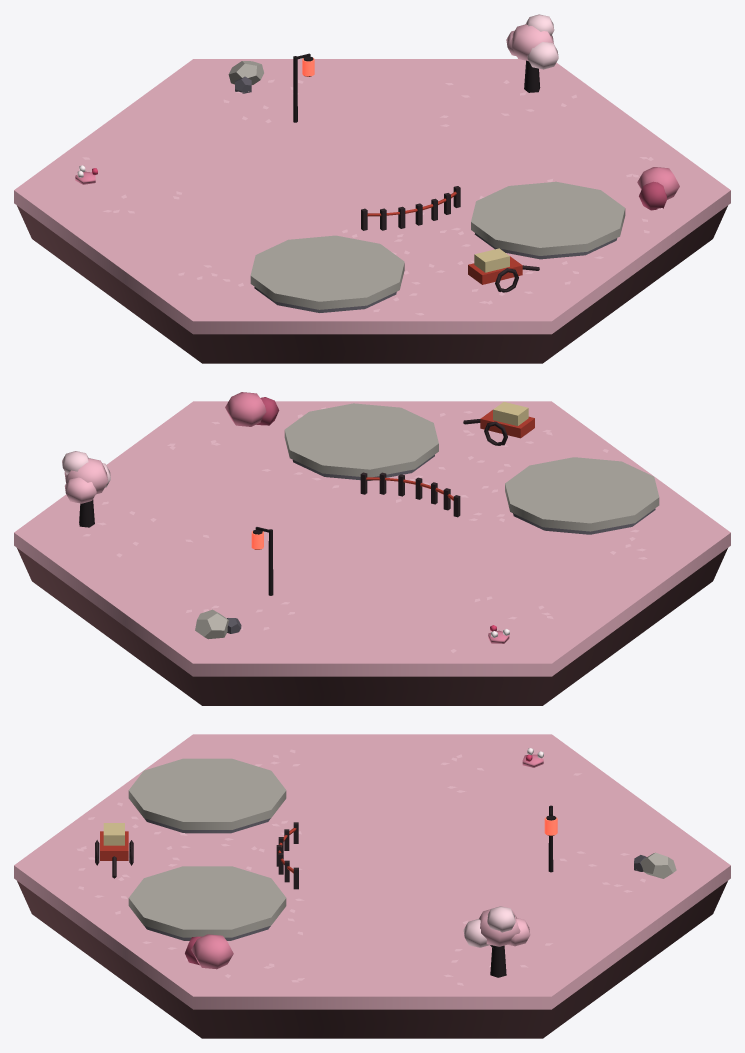
Rendered from tile_sideCross.glb.
The picture shows the model from 3 angles, top to bottom: view 1: azimuth 30°, elevation 25°; view 2: azimuth 150°, elevation 25°; view 3: azimuth 270°, elevation 25°; orthographic projection.
Visible parts, largest first — view 1: ground, ground_soil, tower_slot_1_plate, tower_slot_2_plate, deco_tree_2, deco_petals, fence, deco_bush_0_a, cart_bed, cart_load, deco_bush_0_b, deco_stone_3_a; view 2: ground, ground_soil, tower_slot_1_plate, tower_slot_2_plate, deco_tree_2, fence, deco_petals, deco_bush_0_a, deco_stone_3_a, cart_load, cart_bed; view 3: ground, ground_soil, tower_slot_1_plate, tower_slot_2_plate, deco_tree_2, deco_petals, deco_bush_0_a, fence, deco_stone_3_a, cart_bed, cart_load.
Part boxes in pixels (x1,y1,x2,y2): ground: (14,59,730,334); ground_soil: (17,205,727,363); tower_slot_1_plate: (250,235,404,309); tower_slot_2_plate: (471,181,625,255); deco_tree_2: (506,14,558,69); deco_petals: (82,79,662,315); fence: (361,186,460,230); deco_bush_0_a: (637,167,679,199); cart_bed: (468,256,522,284); cart_load: (474,248,509,272); deco_bush_0_b: (639,181,666,210); deco_stone_3_a: (228,61,263,84); ground: (14,401,730,676); ground_soil: (17,548,727,705); tower_slot_1_plate: (505,457,659,531); tower_slot_2_plate: (284,403,438,477); deco_tree_2: (62,451,110,503); fence: (360,472,460,517); deco_petals: (77,407,647,652); deco_bush_0_a: (225,392,266,426); deco_stone_3_a: (195,609,229,639); cart_load: (493,402,528,425); cart_bed: (480,410,534,438); ground: (14,734,730,1009); ground_soil: (17,881,727,1038); tower_slot_1_plate: (128,758,286,829); tower_slot_2_plate: (128,866,286,937); deco_tree_2: (463,906,530,947); deco_petals: (77,749,645,985); deco_bush_0_a: (191,934,233,969); fence: (276,822,298,889); deco_stone_3_a: (640,852,676,878); cart_bed: (100,831,128,860); cart_load: (103,823,124,845).
Size of the model in its own units: 1.73 by 0.3679 by 2.
